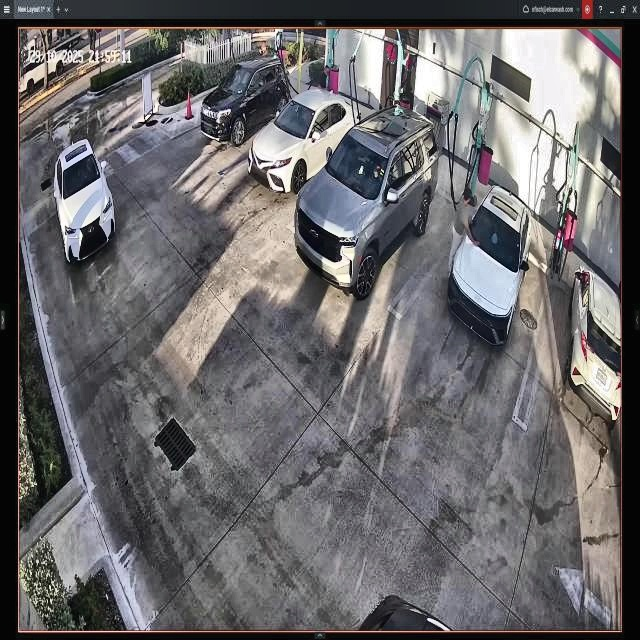Car: (296, 109, 437, 299), (449, 185, 532, 350), (248, 93, 360, 193), (200, 54, 288, 146)
